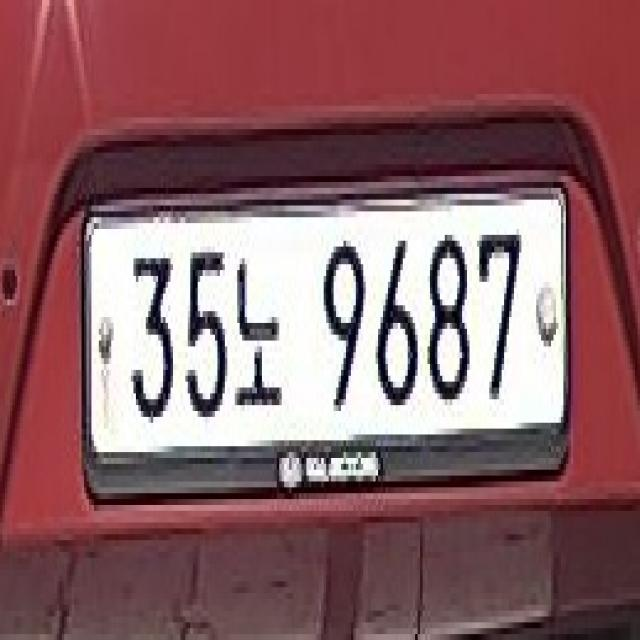3: (128, 240, 178, 422)
5: (185, 247, 228, 422)
6: (373, 229, 420, 405)
7: (474, 223, 524, 399)
8: (425, 229, 472, 405)
9: (321, 235, 368, 417)
license_plate: (81, 182, 566, 458)
no: (230, 252, 284, 417)
